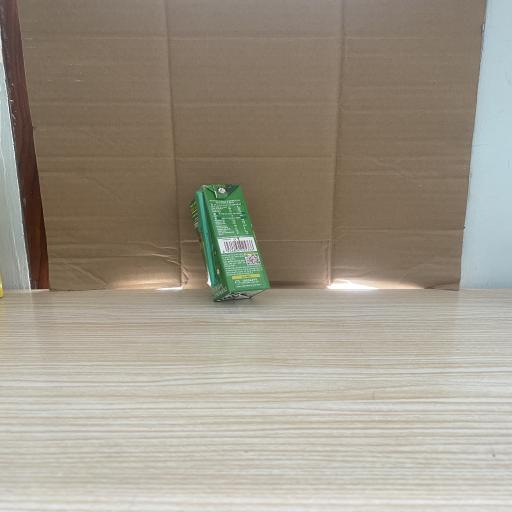milo: (189, 184, 269, 302)
